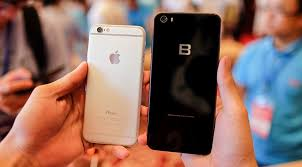bphone: (145, 9, 221, 157)
